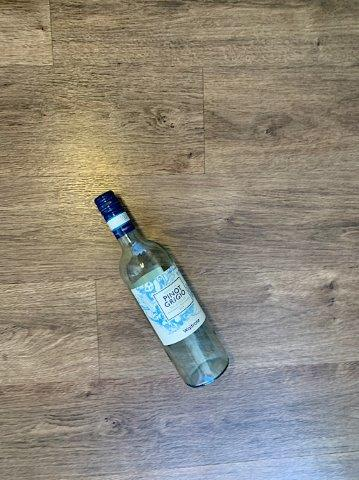botolkaca: (95, 191, 229, 386)
